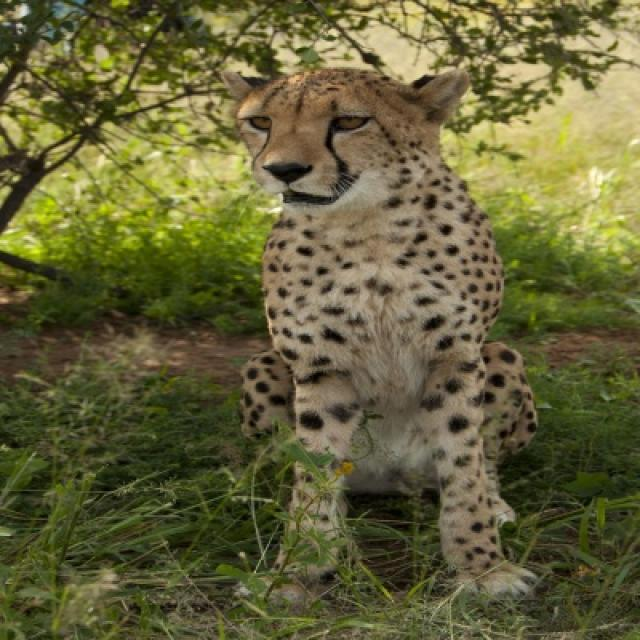Cheetah: (223, 65, 540, 595)
